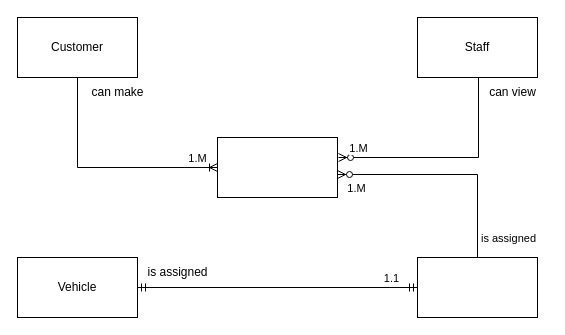
This 565x335 diagram has some shape labels left out. The box of each missing label's shape, as (x1, y1, x2, y2) in pixels:
Driver: (416, 256, 538, 318)
Trip: (216, 136, 338, 198)
